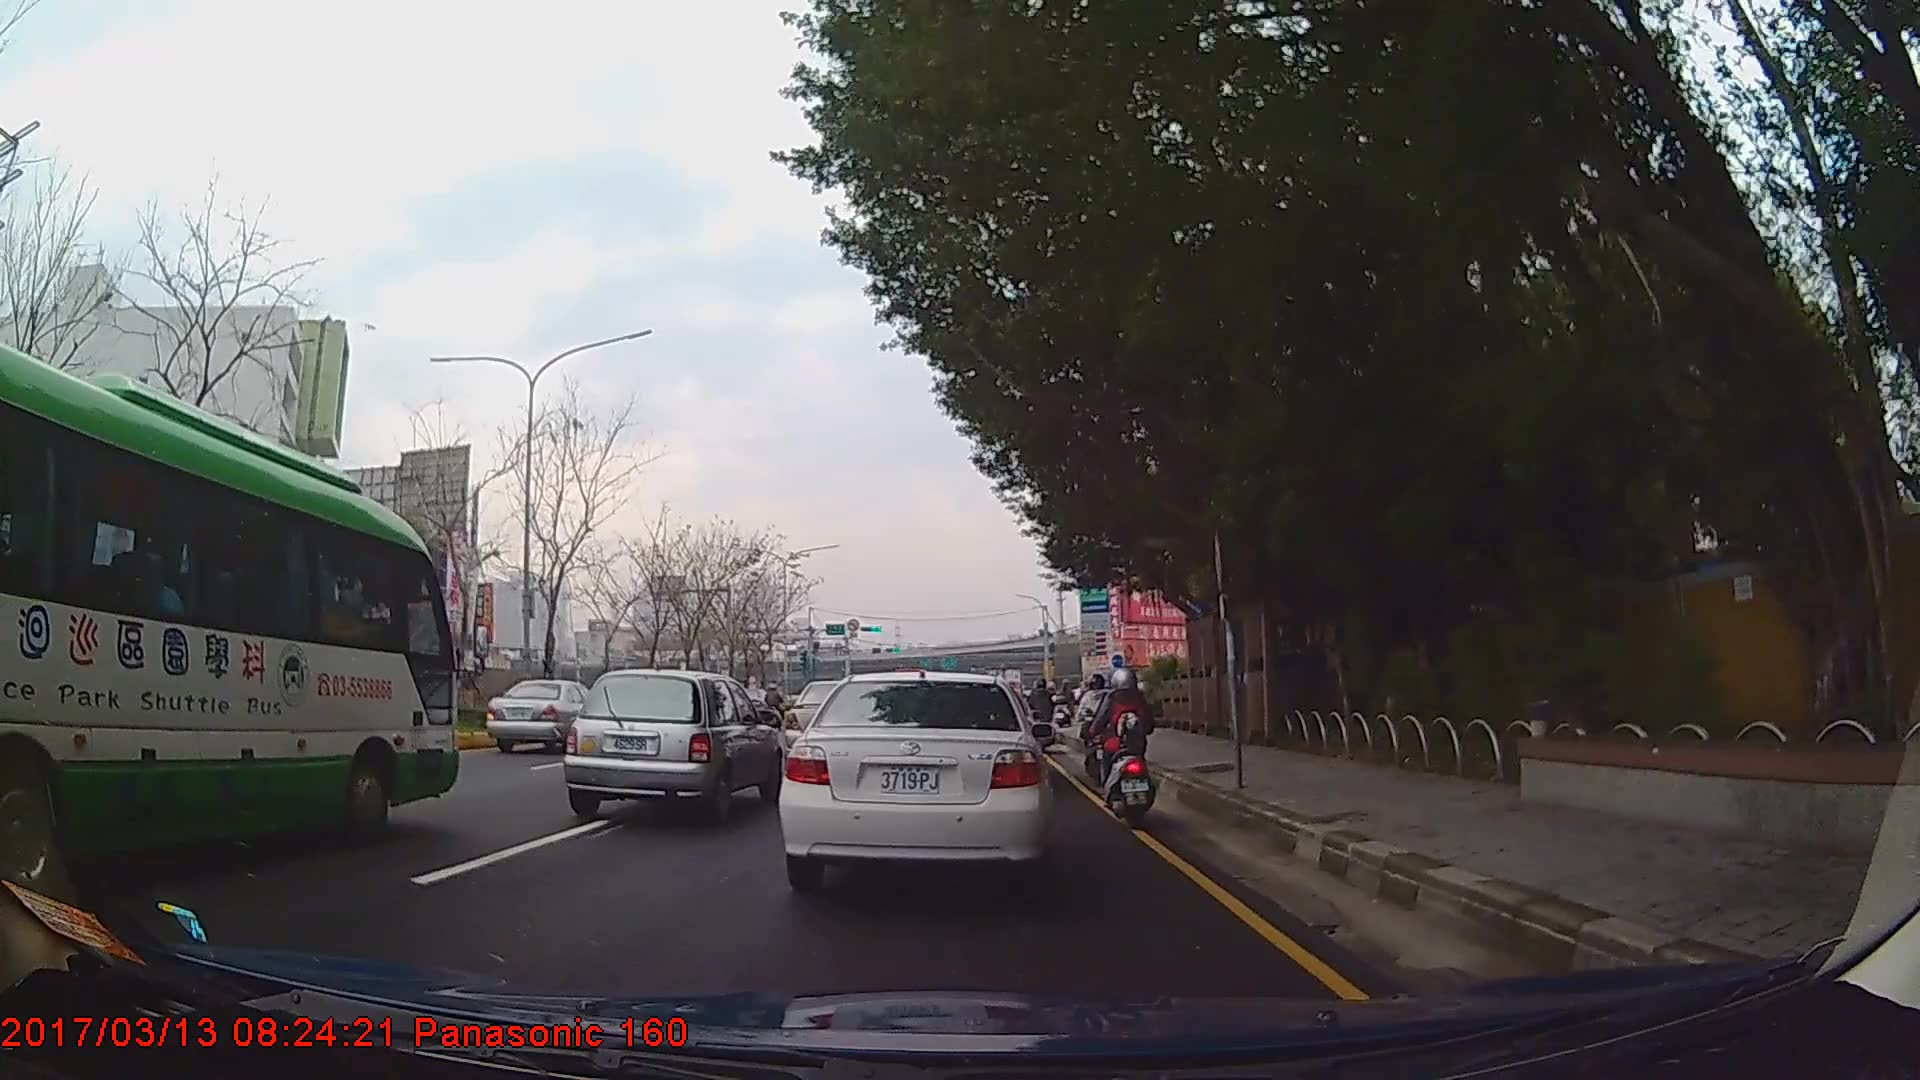rider: (1101, 661, 1162, 820), (1075, 673, 1121, 789), (1031, 676, 1057, 736)
vehicle: (0, 338, 458, 882), (777, 669, 1051, 892), (561, 665, 783, 821), (486, 676, 604, 751)
